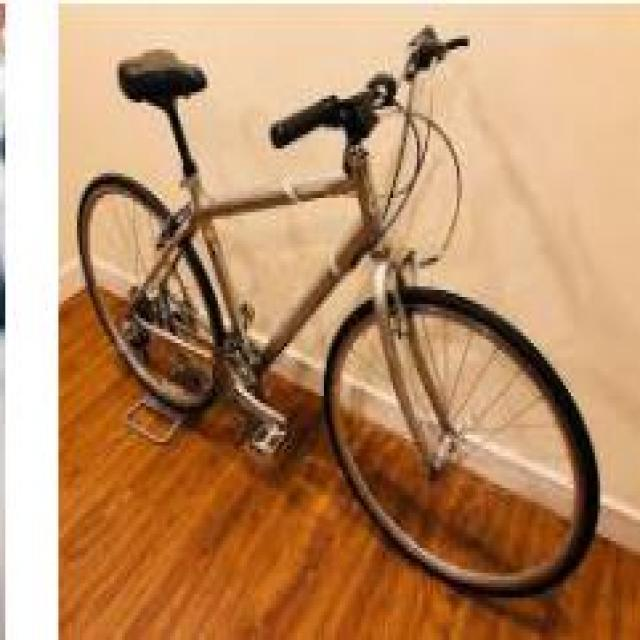bicycle: (73, 61, 607, 609)
